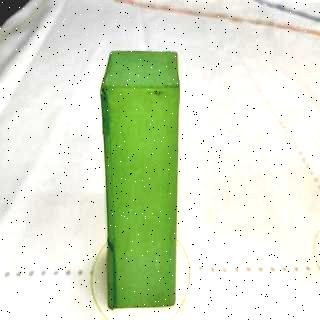greenbox: (98, 48, 182, 307)
